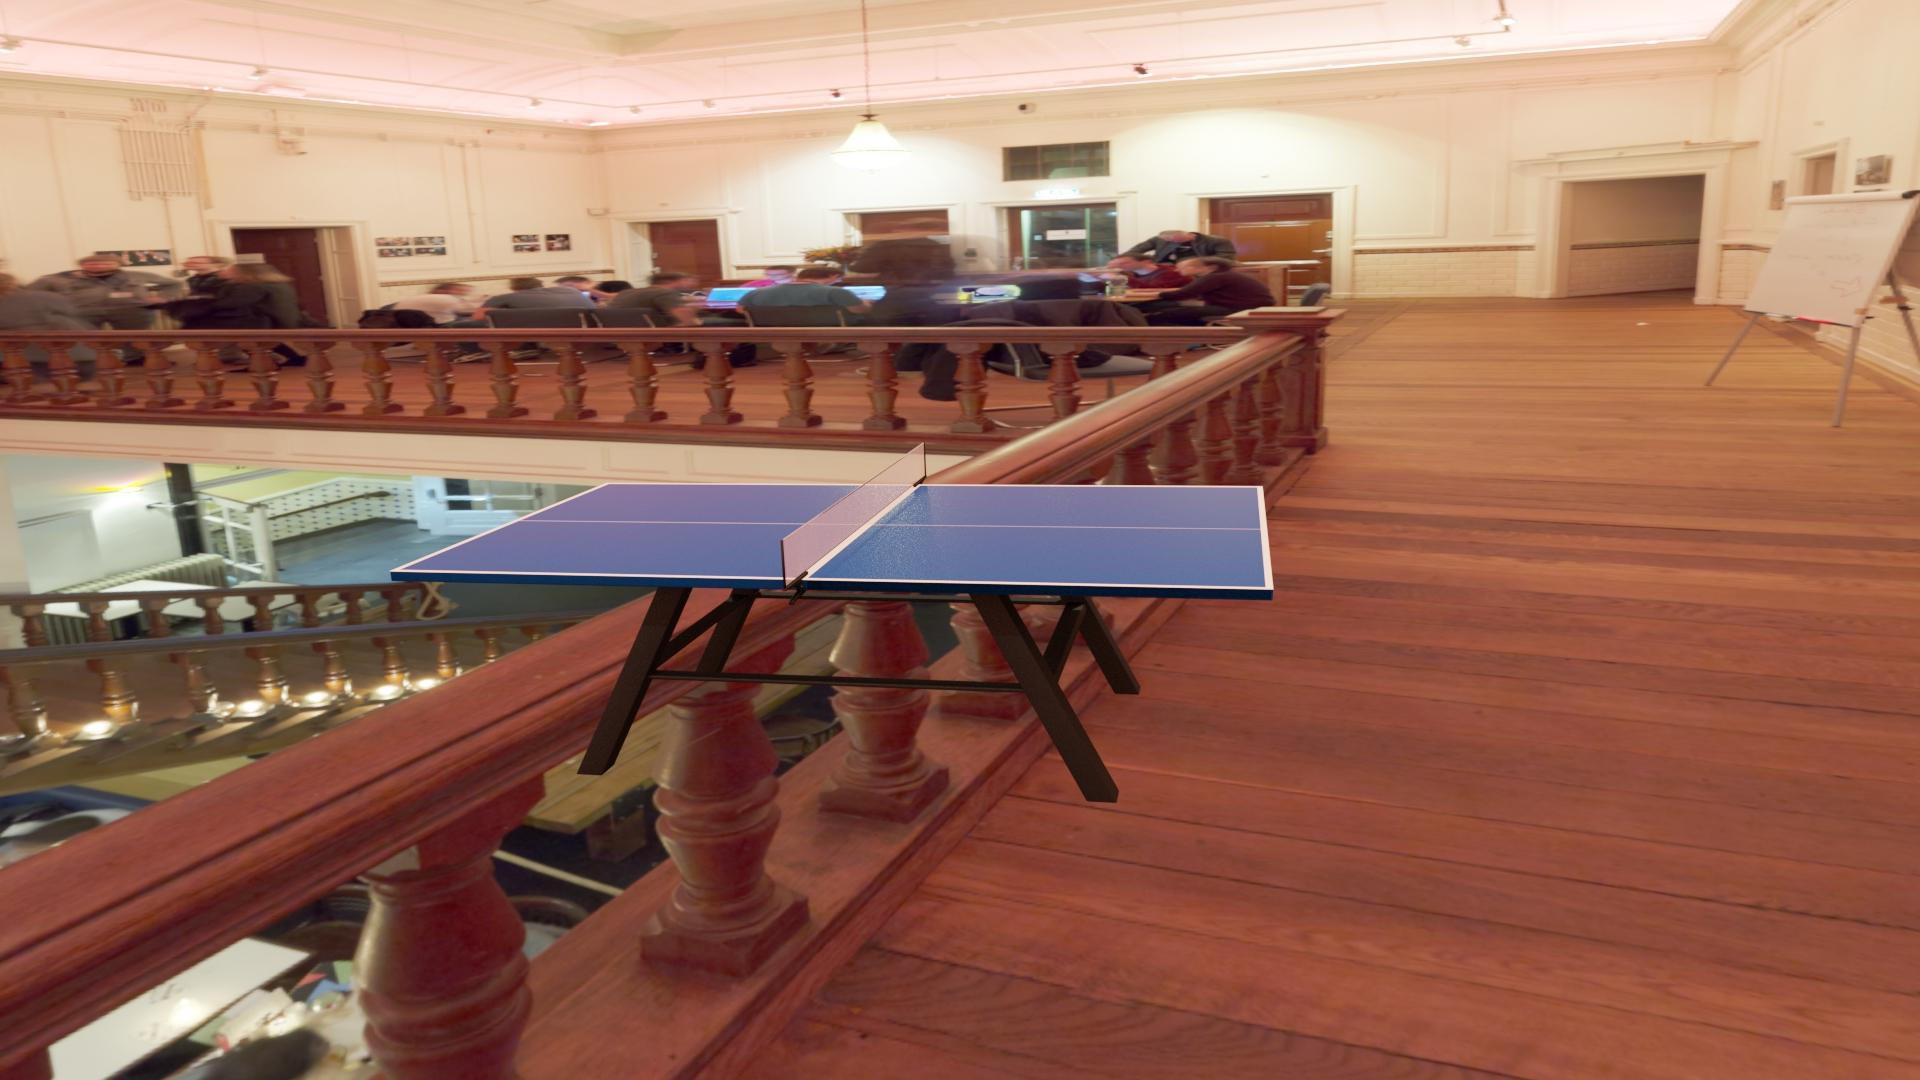table: (398, 484, 1266, 587)
